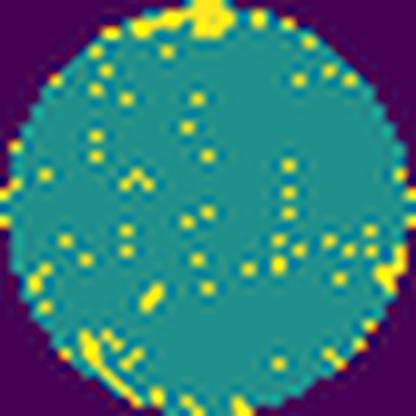Edge-Loc: (78, 334, 148, 407), (125, 0, 237, 42), (371, 244, 410, 298)
